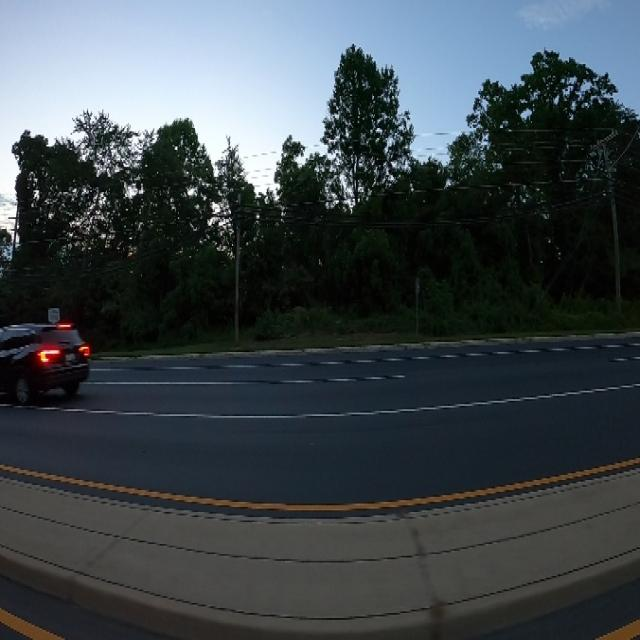Cars: (0, 314, 85, 402)
